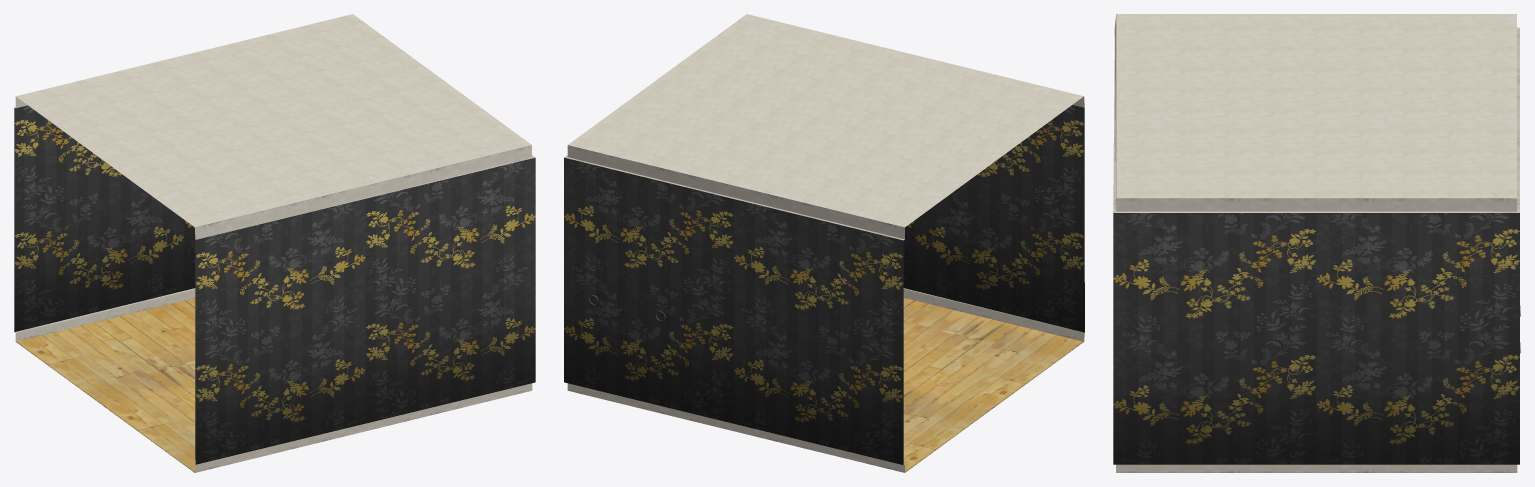
File: dressing_room.FBX
3 renders of one model, left to right at view 1: azimuth 30°, elevation 25°; view 2: azimuth 150°, elevation 25°; view 3: azimuth 270°, elevation 25°, orthographic. The views are drawn at different scales.
Visible parts, largest first — view 1: room; view 2: room; view 3: room.
Boxes of the visible parts, <box> form: room: <box>14,14,535,472</box>; room: <box>564,14,1084,472</box>; room: <box>1113,14,1520,472</box>.
Size of the model in its own units: 4.57 by 3.16 by 4.24.
